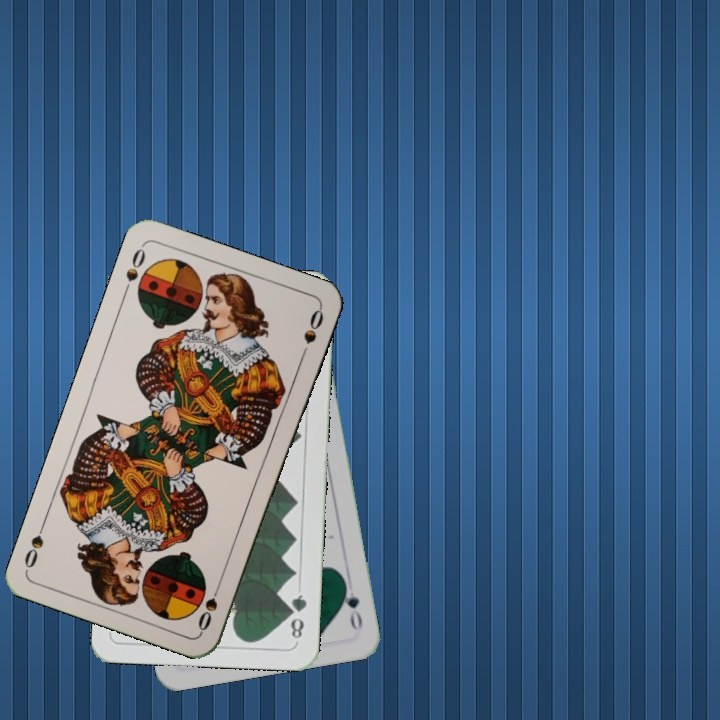G8: (285, 591, 310, 644)
GO: (338, 576, 365, 633)
SO: (194, 577, 225, 634), (119, 241, 148, 299)
